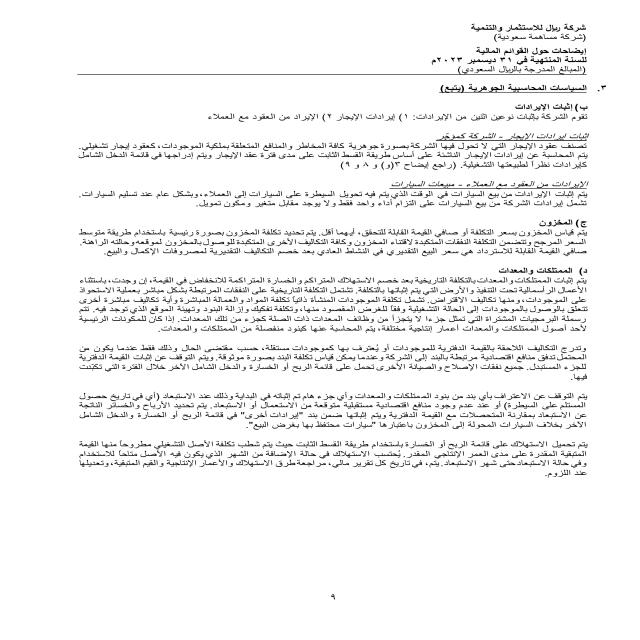notes: (464, 45, 590, 56)
text: (40, 79, 612, 505)
